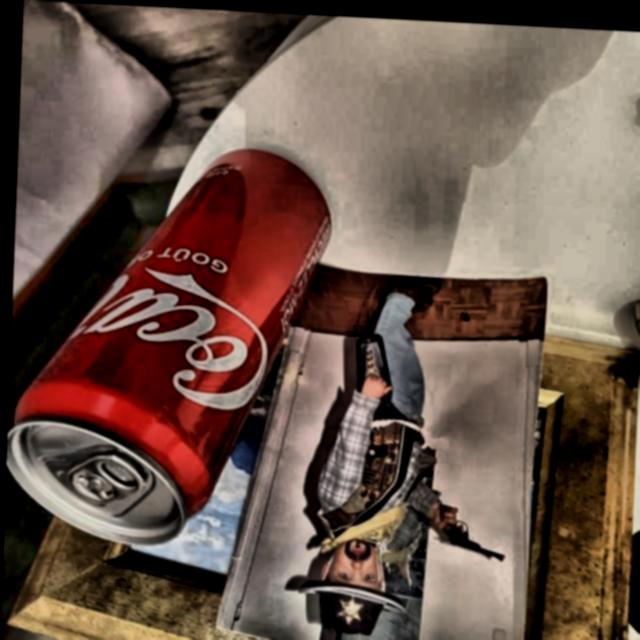can: (2, 102, 348, 596)
